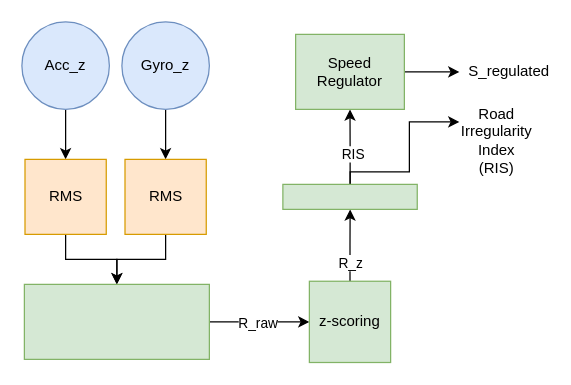
The diagram is 571 pixels wide and 385 high, and some of its shapes have lost their labels. Here are the shapes that lost their labels. From the top down, the box of each, then its label:
(282, 183, 417, 209): 85th percentile
(23, 283, 209, 359): Calculate raw roughness
